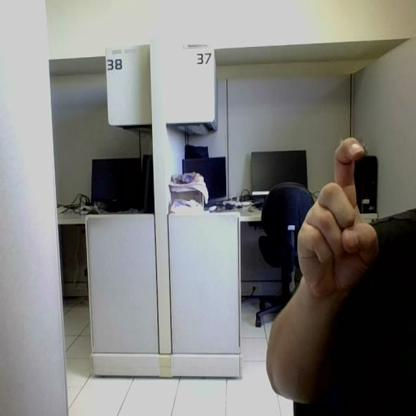X: (296, 137, 378, 293)
